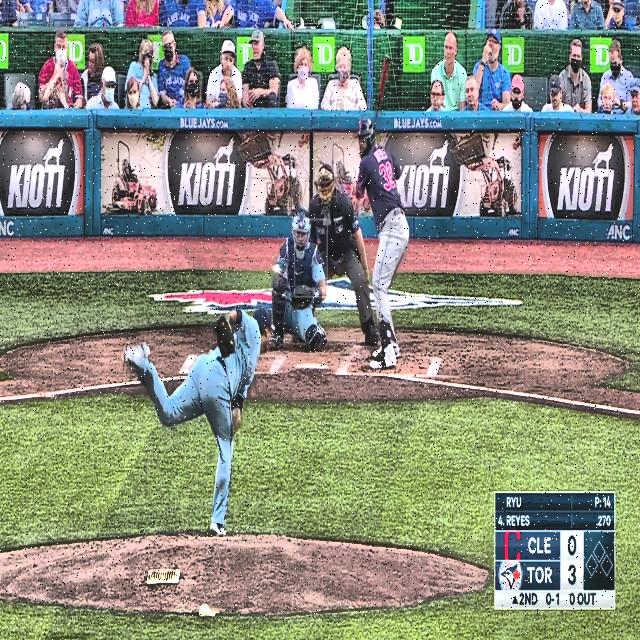baseball: (271, 263, 281, 280)
